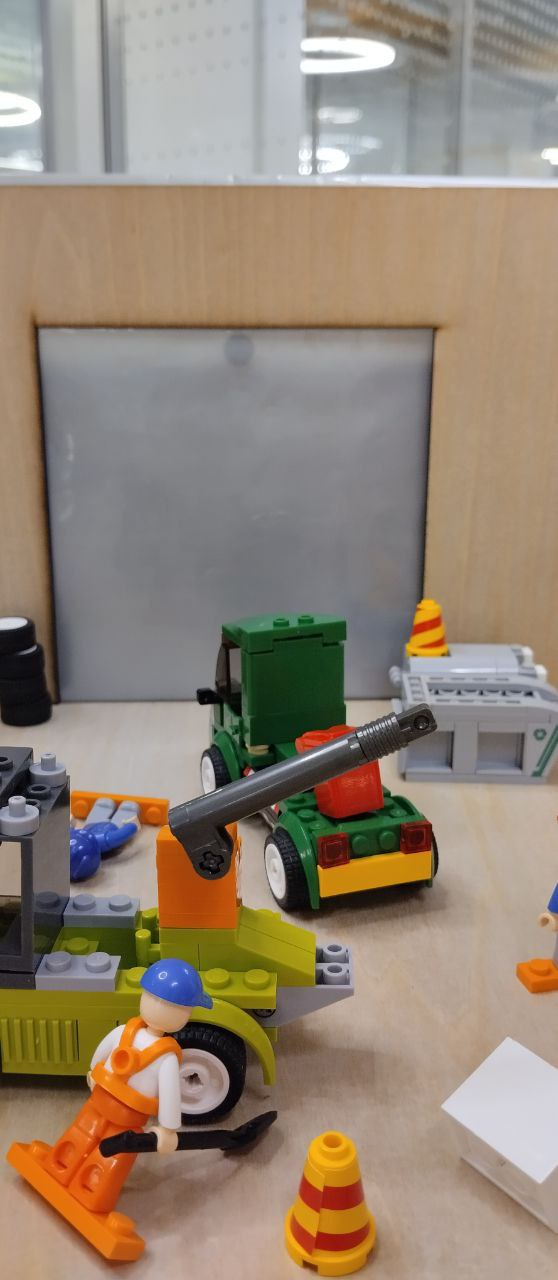Cone: (281, 1129, 379, 1280), (406, 598, 449, 656)
Crane: (0, 743, 351, 1130)
Object Red: (296, 721, 384, 818)
Object white: (443, 1035, 557, 1235)
Truck: (198, 612, 440, 912)
